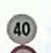limite 40: (6, 12, 37, 44)
